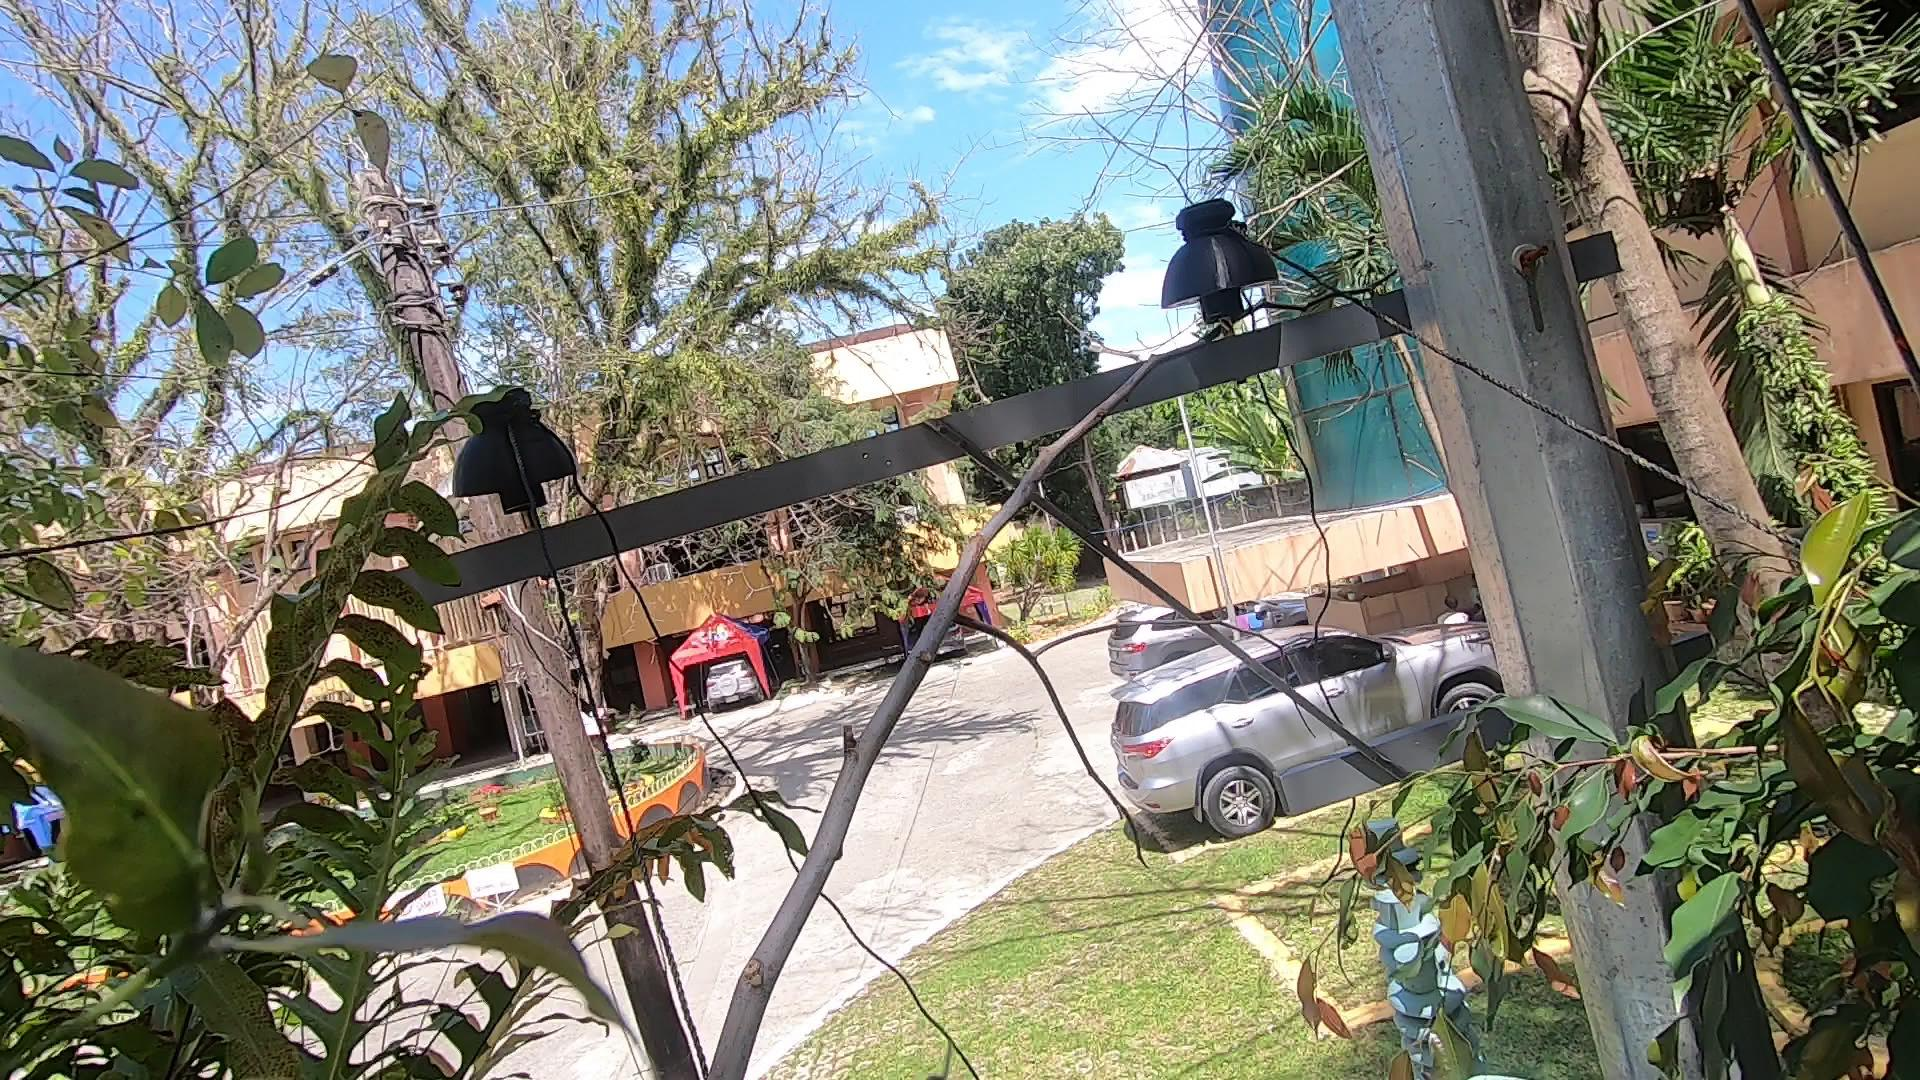branch with leaves: (1253, 698, 1627, 1080)
tree branch: (695, 161, 1218, 1080)
